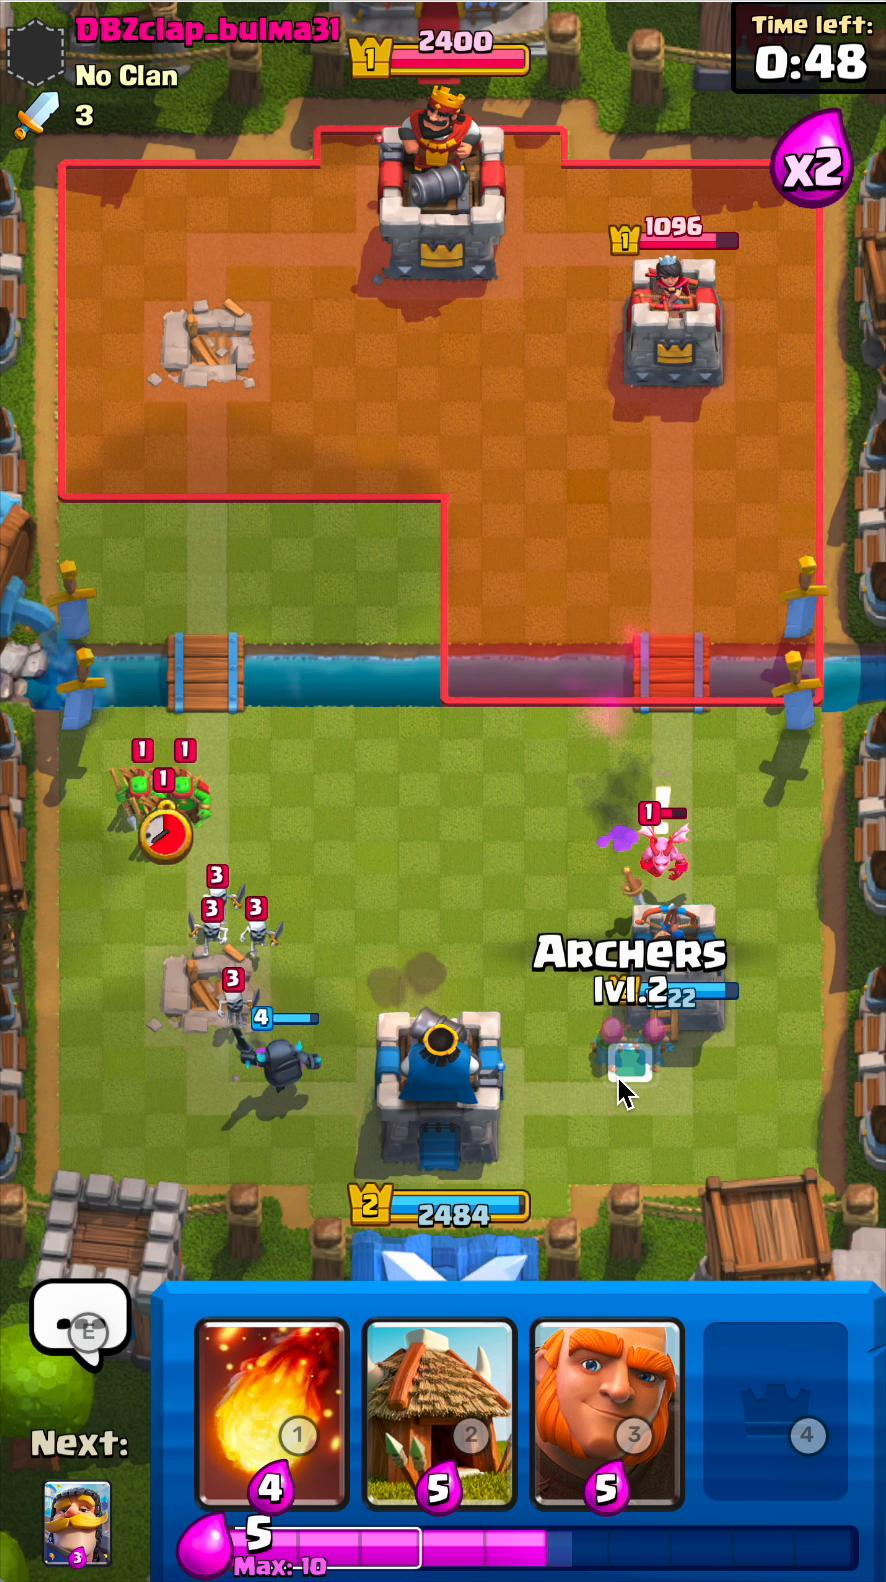gargouille: (634, 828, 695, 880)
gobelin_lances: (164, 768, 215, 830), (116, 770, 153, 816)
mini_PEKKA: (220, 1026, 327, 1104)
squelette: (208, 983, 274, 1038), (236, 912, 290, 960), (180, 909, 228, 959), (203, 882, 253, 916)
